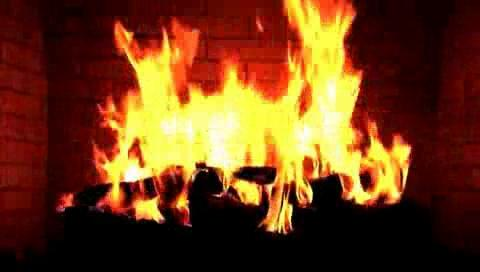fire: (81, 4, 426, 232), (0, 0, 63, 38)
